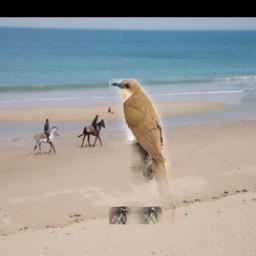Cuckoo: (110, 79, 176, 224)
